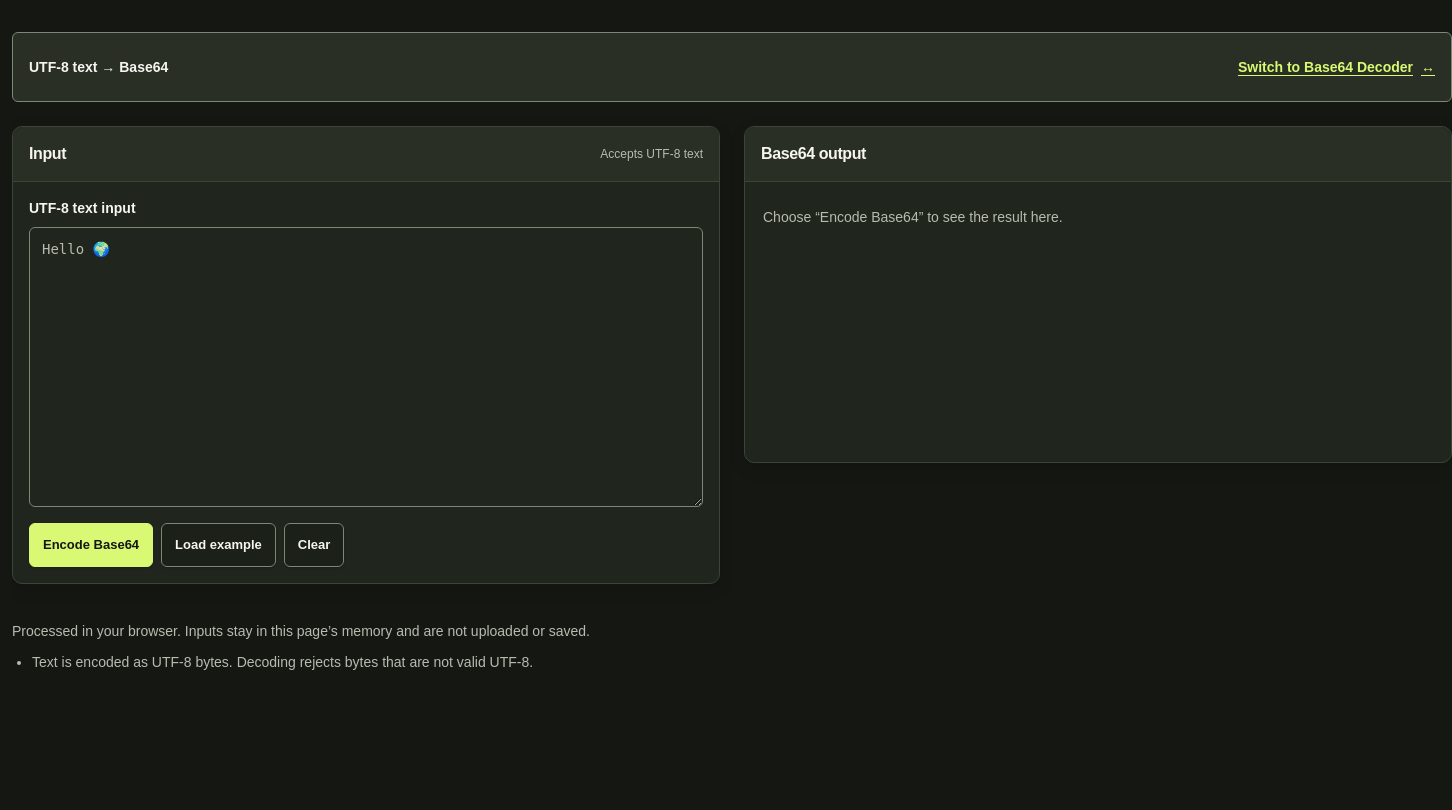
Test case: Encoding under dark DOM theme (not visual layout) › base64-encoder has exact inputs, keyboard conversion, exact copy and clear without network
Press Tab
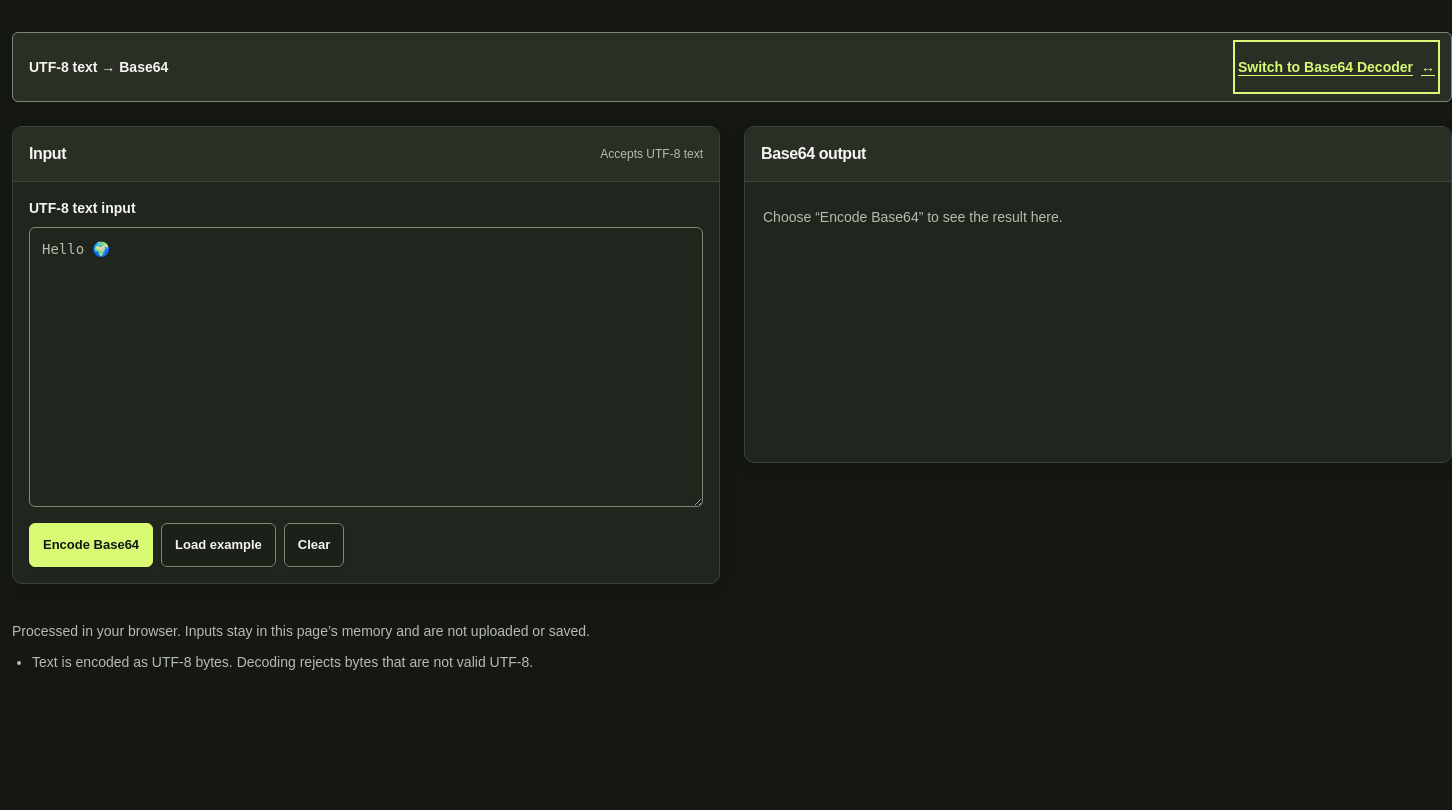
Click the button "Load example".
click(218, 545)  # box [161, 523, 276, 567]
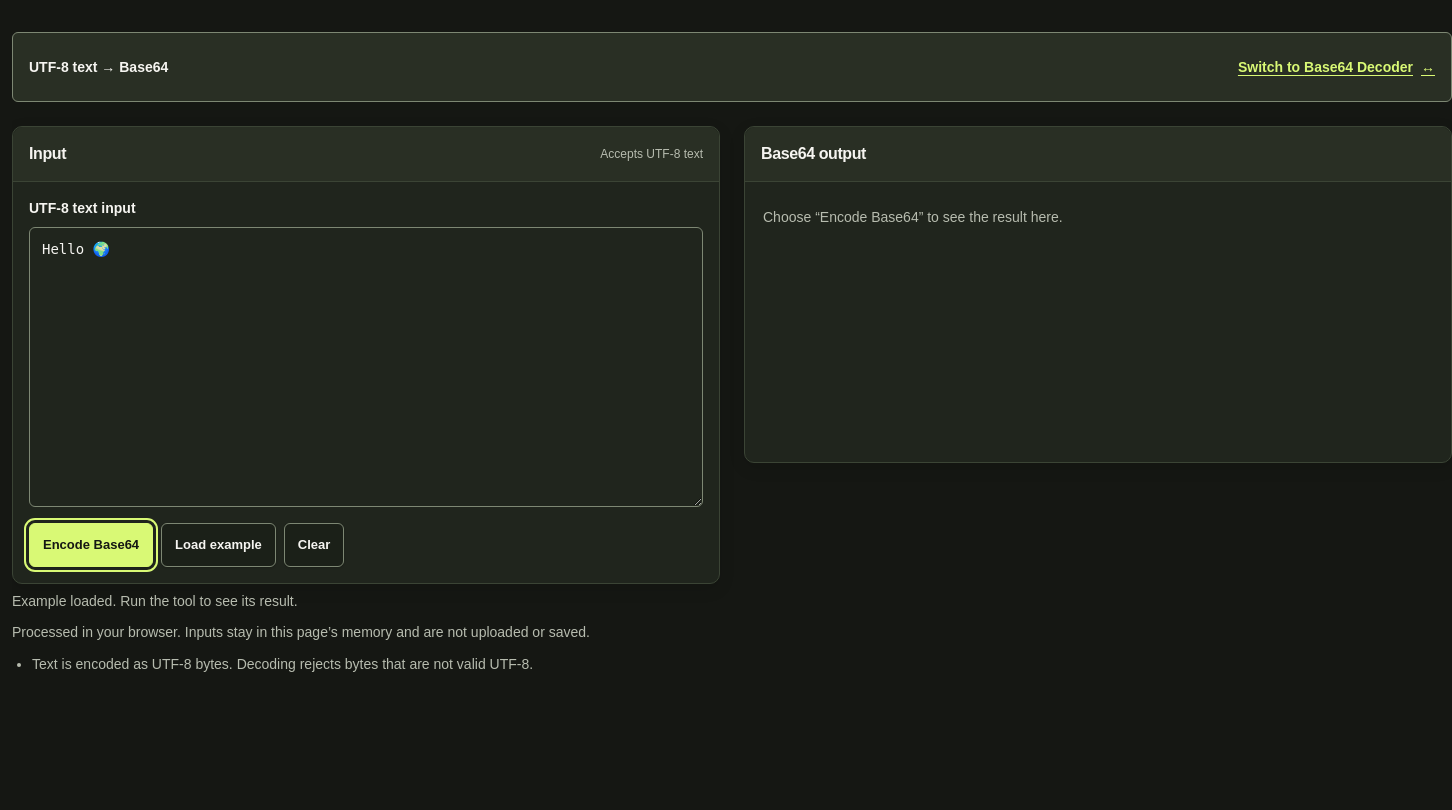
Press Enter
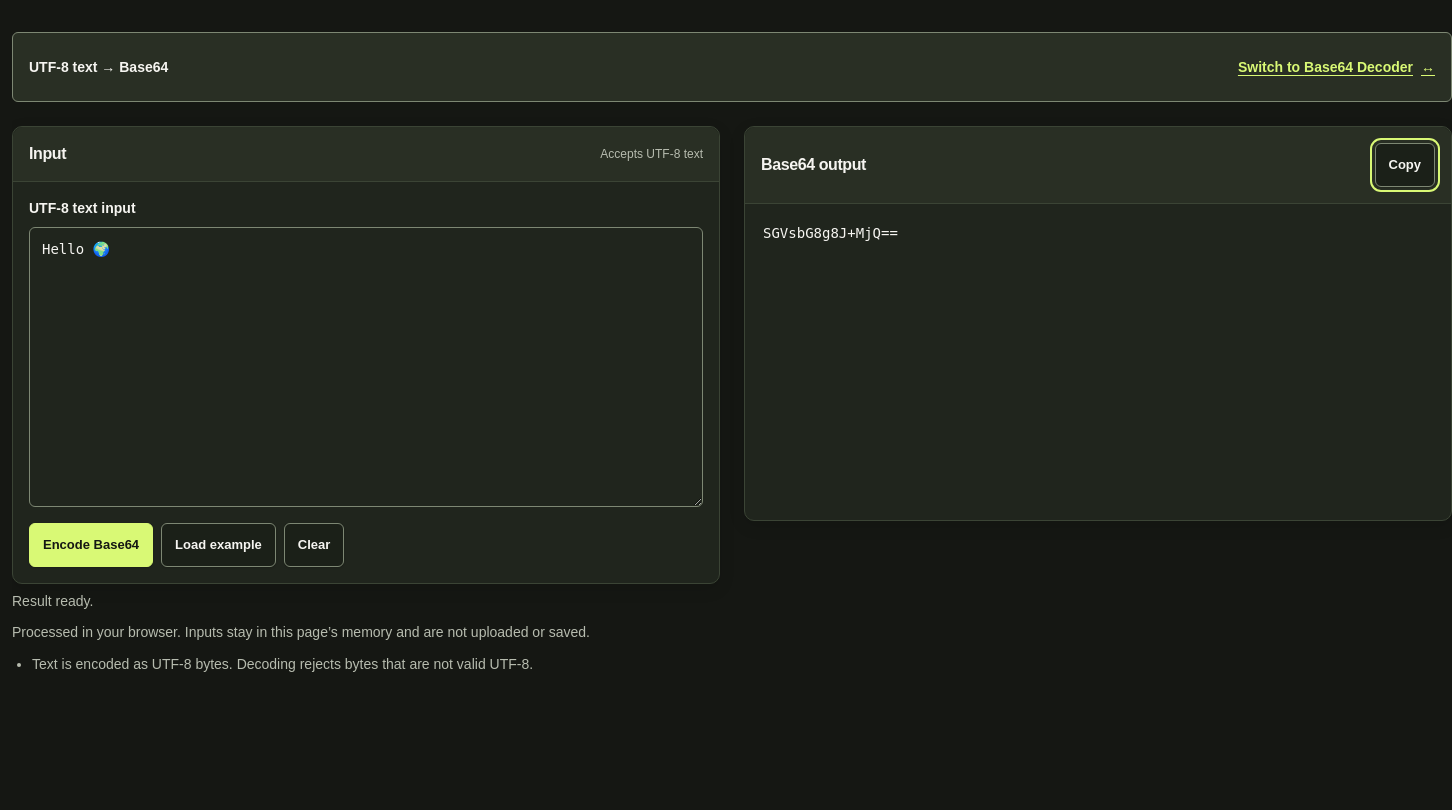
Press Enter
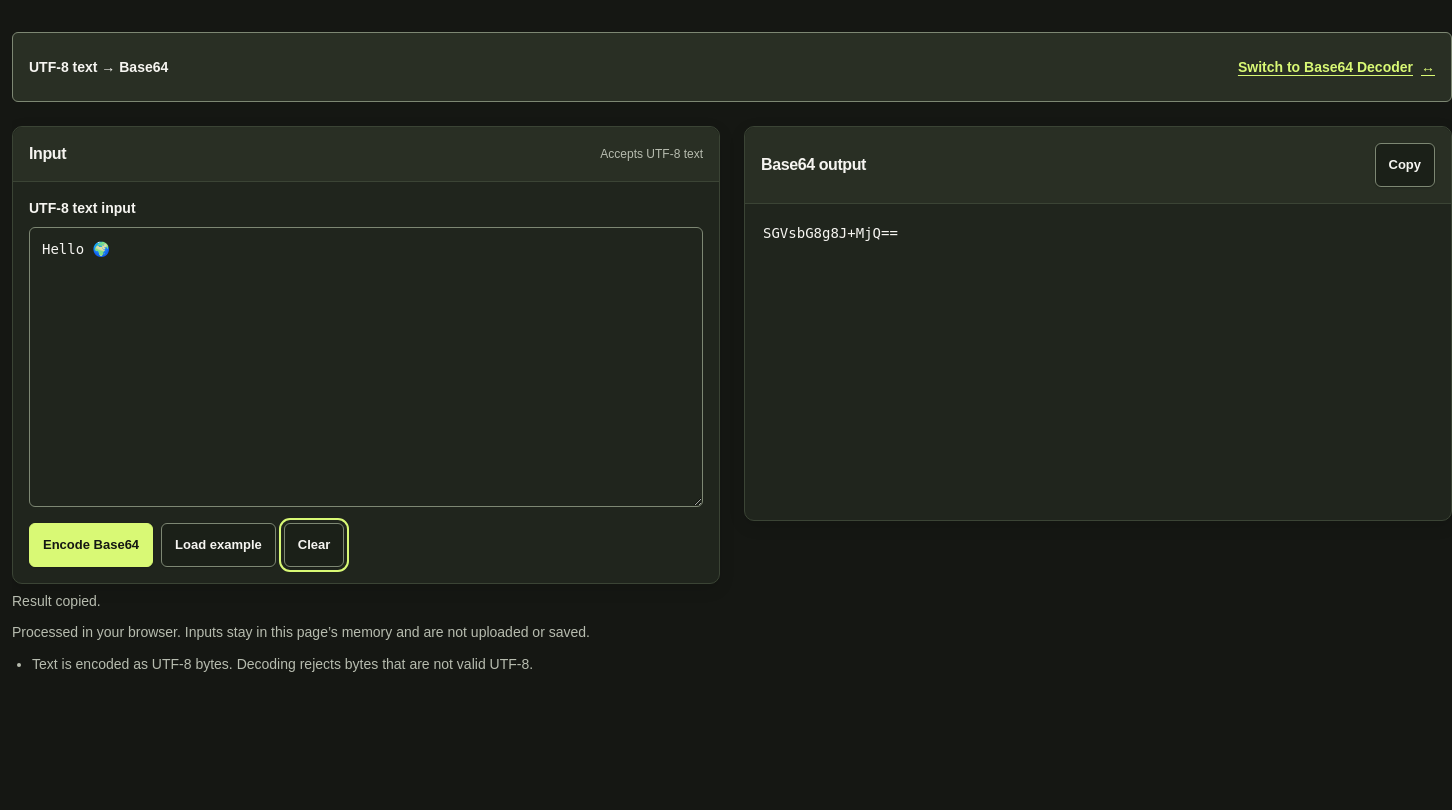
Press Enter
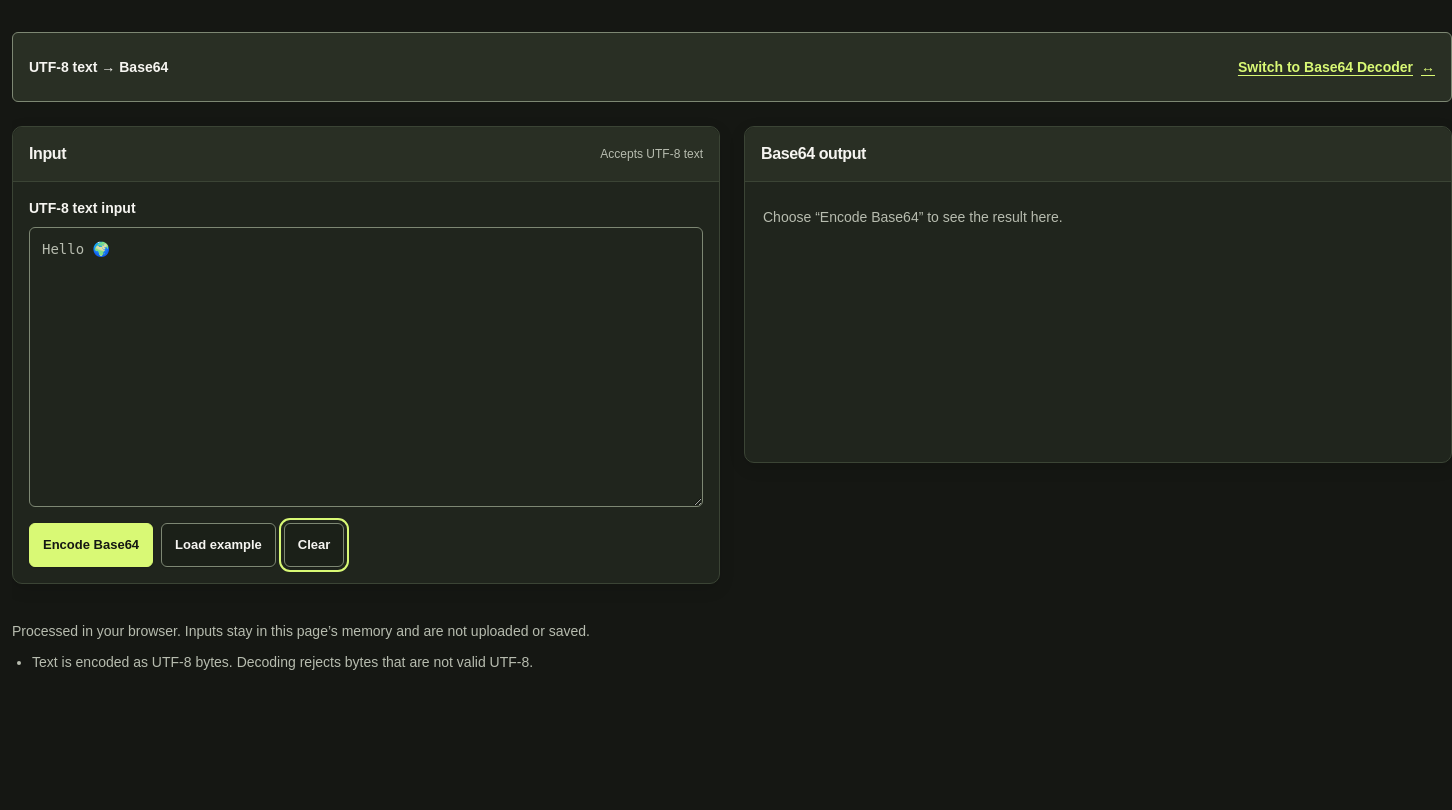
Now the text box labelled "UTF-8 text input" is empty, box [29, 227, 703, 507]
Now the button "Copy" is gone
